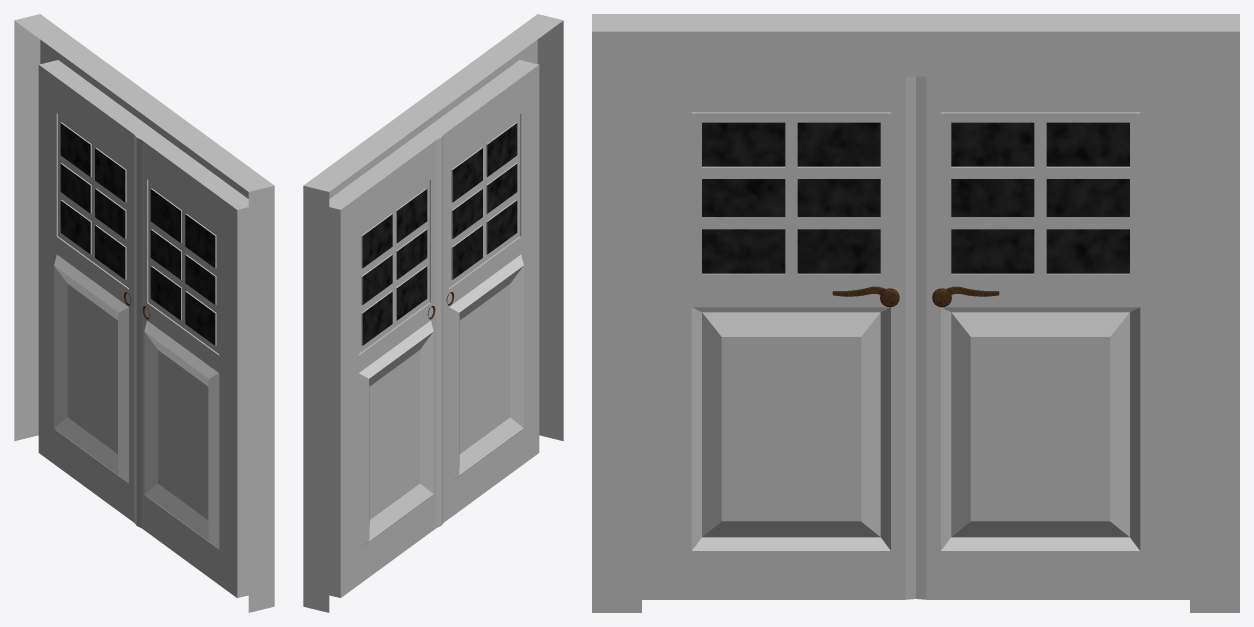
Rendered from FrontDoor.fbx.
3 renders of one model, left to right at view 1: azimuth 30°, elevation 25°; view 2: azimuth 150°, elevation 25°; view 3: azimuth 270°, elevation 25°, orthographic. The views are drawn at different scales.
Visible parts, largest first — view 1: FrontDoor; view 2: FrontDoor; view 3: FrontDoor.
Boxes of the visible parts, x1,y1,x2,y2 form: FrontDoor: [14, 14, 274, 612]; FrontDoor: [303, 14, 563, 612]; FrontDoor: [592, 14, 1239, 612].
Bounding box in the file's own units: 16 × 247 × 250.
